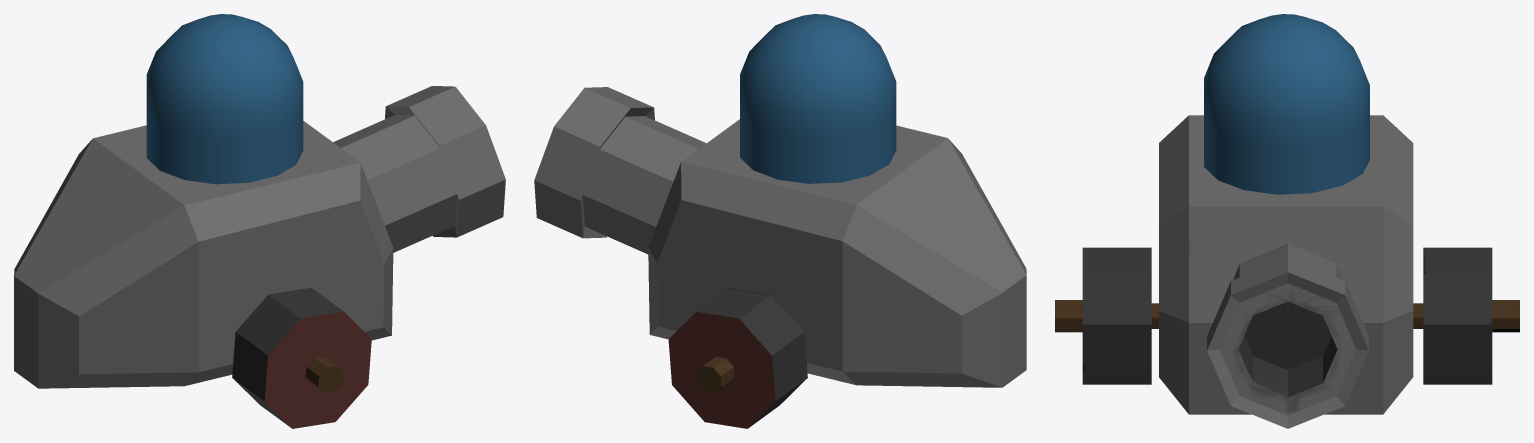
The model's file is MinionFBX.fbx.
3 views of the same model, side by side, from view 1: azimuth 30°, elevation 25°; view 2: azimuth 150°, elevation 25°; view 3: azimuth 270°, elevation 25° (orthographic). The views are drawn at different scales.
Parts seen in each view (by area): view 1: Minion, CommandPod, WheelR; view 2: Minion, CommandPod, WheelR; view 3: Minion, CommandPod, WheelR.
Boxes of the visible parts, x1,y1,x2,y2 form: Minion: [14, 86, 505, 388]; CommandPod: [146, 14, 303, 184]; WheelR: [232, 287, 371, 428]; Minion: [534, 87, 1026, 387]; CommandPod: [740, 14, 896, 183]; WheelR: [668, 288, 807, 428]; Minion: [1159, 115, 1413, 428]; CommandPod: [1204, 14, 1369, 194]; WheelR: [1055, 247, 1519, 384].
Bounding box in the file's own units: 366 × 308 × 438.
